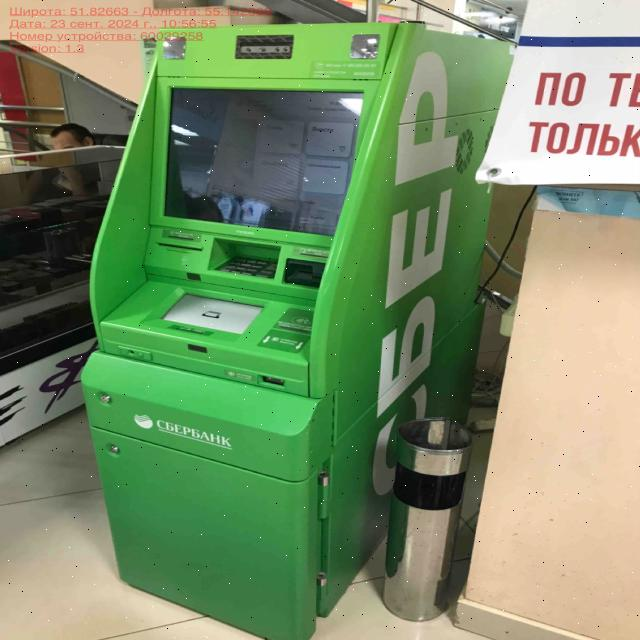bank: (77, 18, 495, 640)
